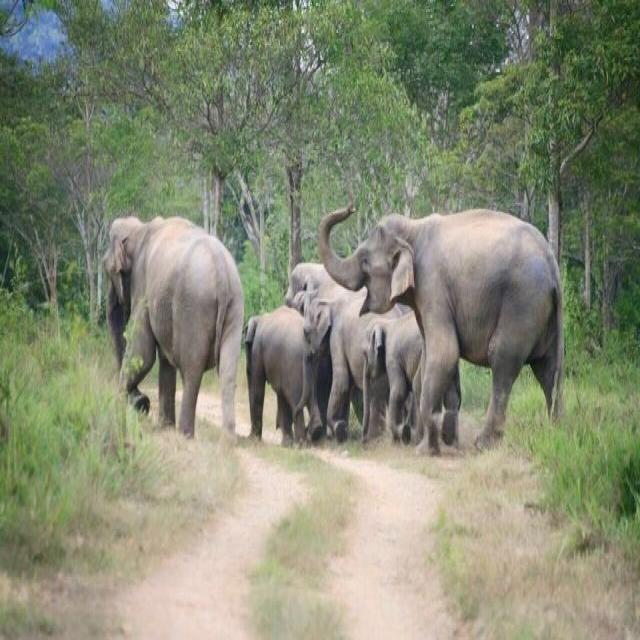Elephant: (317, 180, 587, 457), (90, 202, 242, 448), (294, 246, 428, 452), (246, 296, 314, 442)
